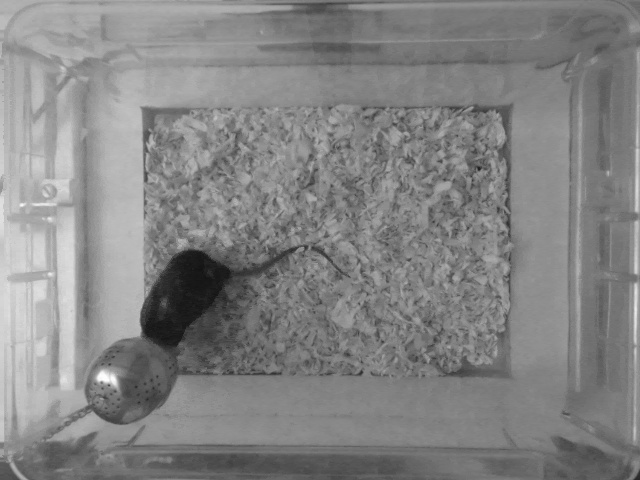mice: (137, 241, 352, 350)
